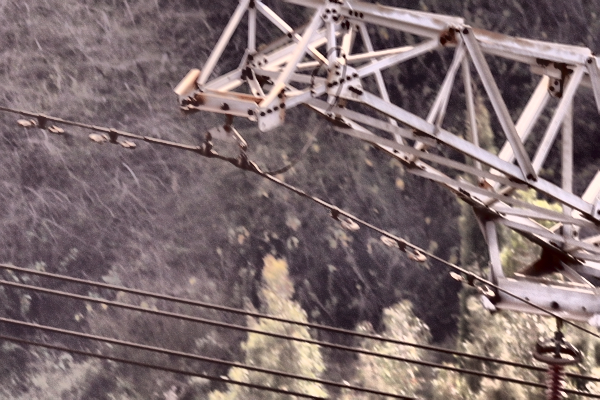damper: (377, 231, 429, 265), (447, 266, 496, 298), (86, 126, 137, 150), (14, 113, 65, 136)
damper_defect: (325, 202, 361, 234)
